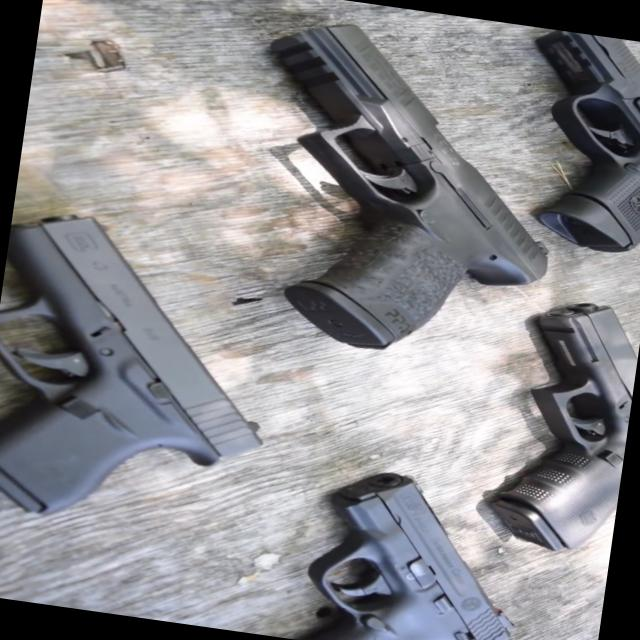handgun: (215, 5, 538, 375), (0, 149, 297, 543), (246, 441, 524, 639), (492, 281, 639, 579)
